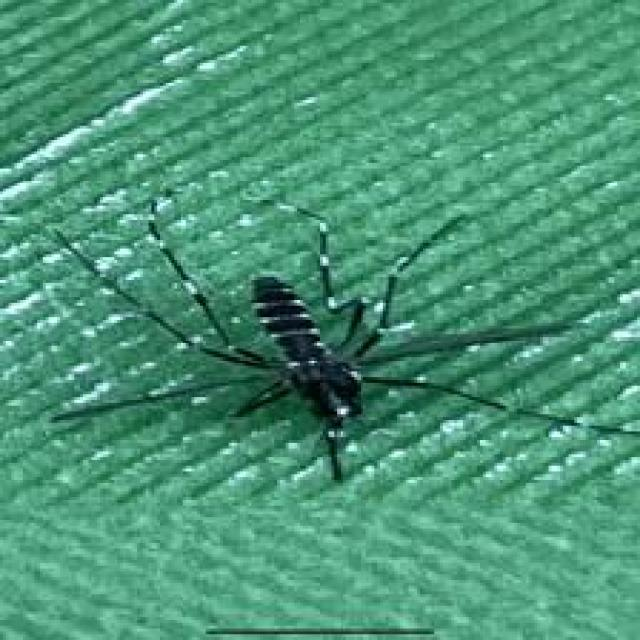Aedes albopictus: (44, 193, 639, 487)
